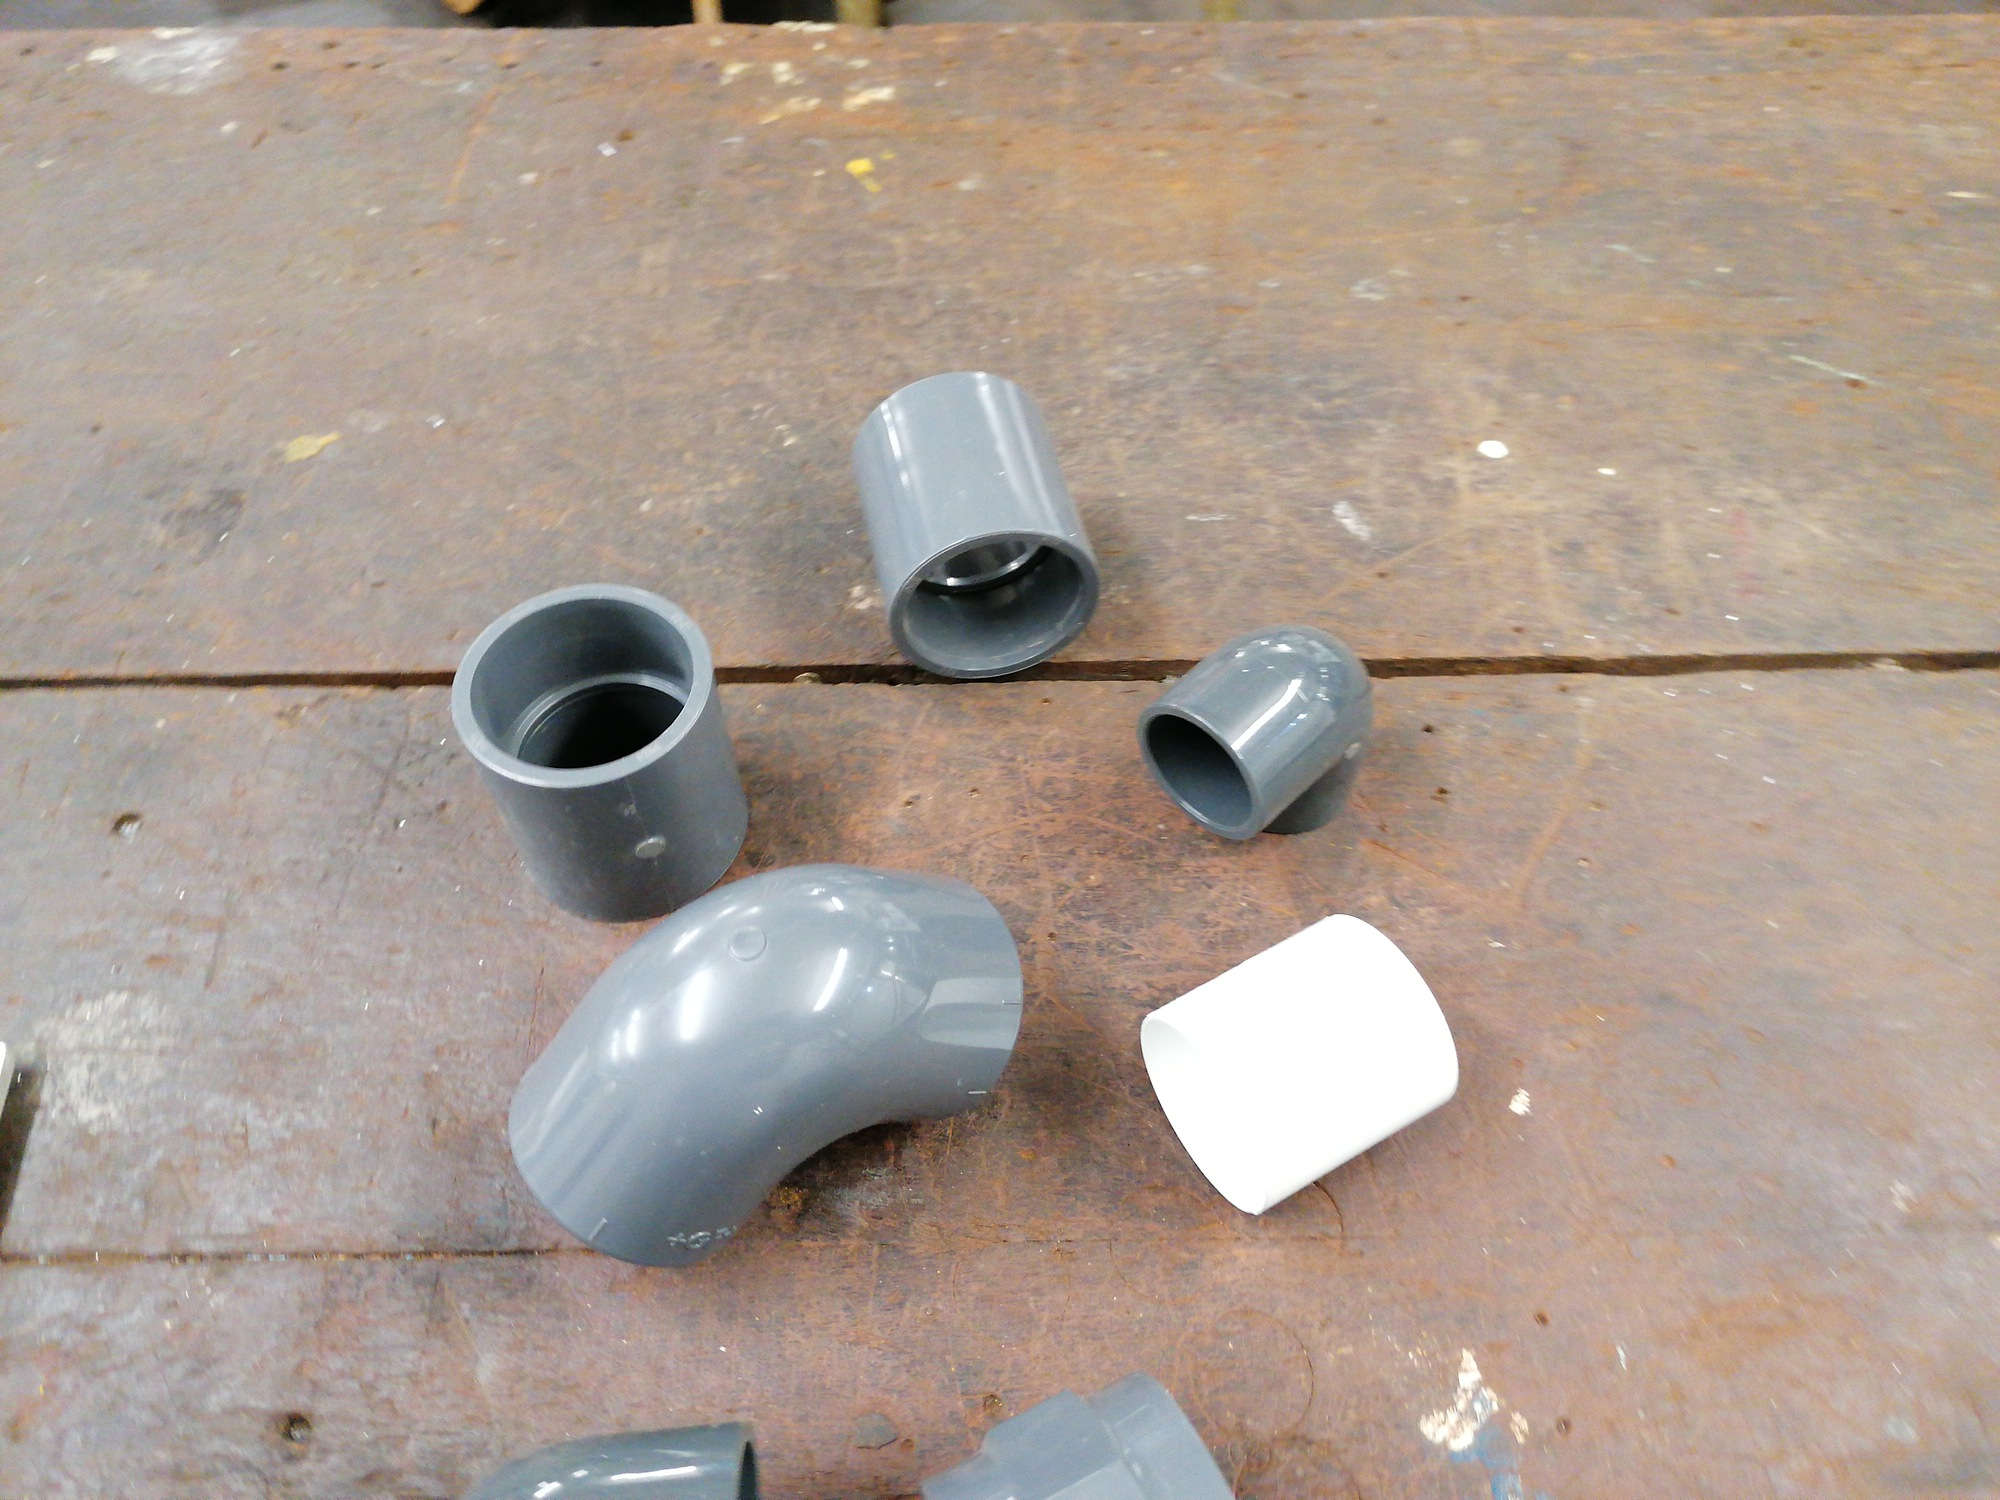nut: (918, 1366, 1241, 1500)
pipe: (501, 863, 1024, 1270), (447, 574, 753, 922), (1137, 912, 1469, 1220), (847, 364, 1102, 681), (1132, 618, 1373, 845), (439, 1410, 762, 1497)
